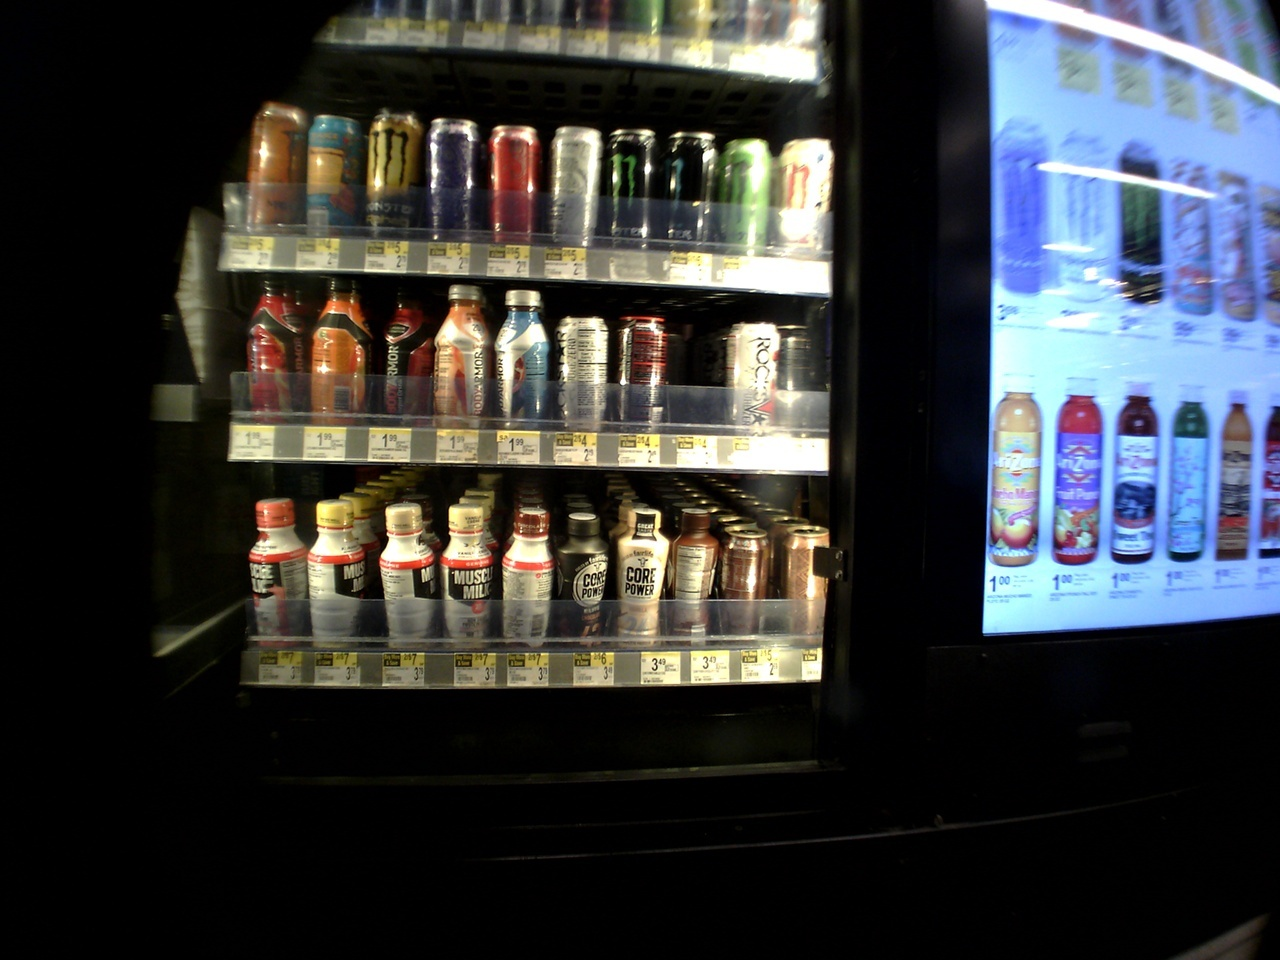shelf: (212, 51, 857, 280), (223, 265, 842, 475), (223, 473, 825, 688)
